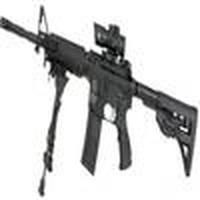gun: (1, 8, 198, 187)
